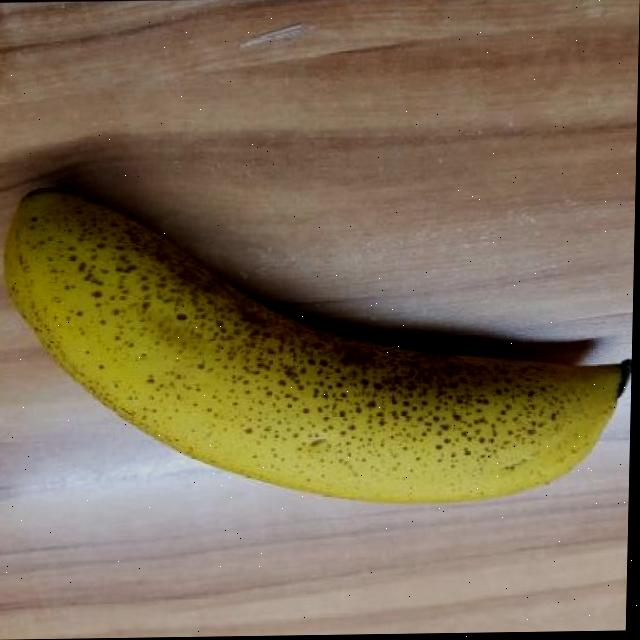banana: (4, 179, 636, 505)
